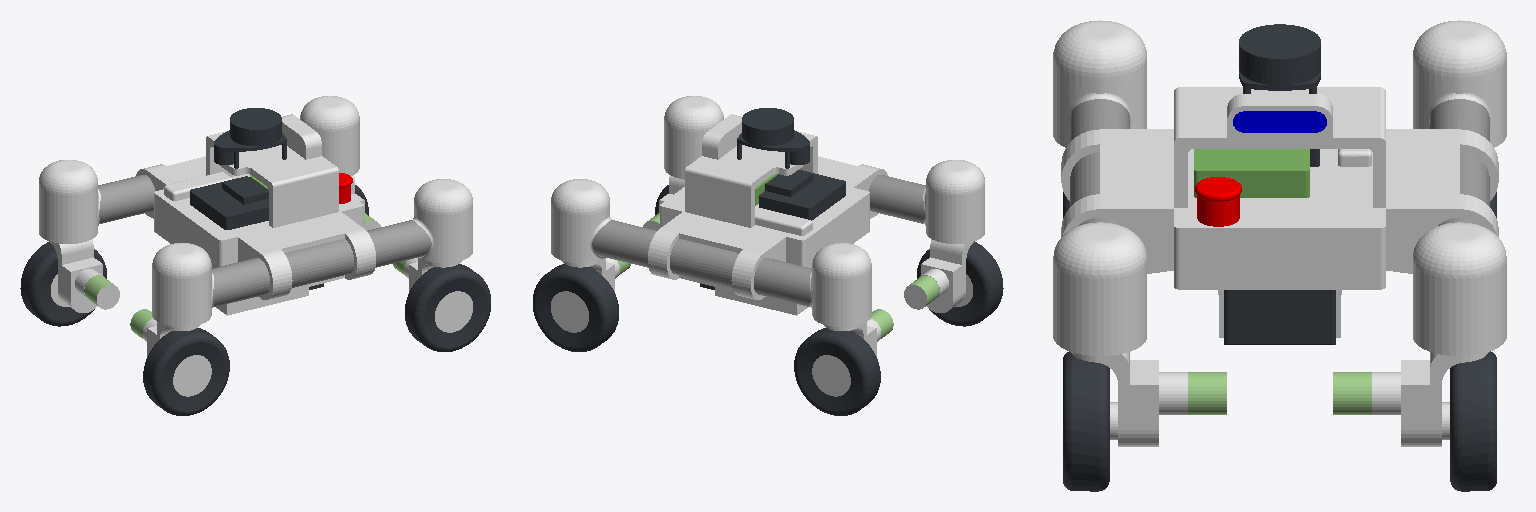
URDF robot description (robot):
<?xml version="1.0"?>
<robot name="robot">

  <!-- Base chassis -->
  <link name="chassis">
    <!-- Visual mesh -->
    <visual>
      <geometry>
        <mesh filename="package://robot_description/urdf/meshes/chassis.dae" scale="1 1 1"/>
      </geometry>
    </visual>

    <!-- Simplified collision -->
    <collision>
      <geometry>
        <box size="0.6 0.5 0.35"/> <!-- example box covering chassis -->
      </geometry>
      <origin xyz="0 0 0.175" rpy="0 0 0"/>
    </collision>
  </link>

  <!-- LiDAR sensor mounted at the chassis center, z = 0.310 m -->
  <link name="lidar_link"/>
  <joint name="chassis_to_lidar" type="fixed">
    <parent link="chassis"/>
    <child link="lidar_link"/>
    <origin xyz="0 0 0.31" rpy="0 0 0"/>
  </joint>

  <!-- RealSense camera at x=+0.088 m forward, z=0.28 m, centered laterally -->
  <link name="camera_link"/>
  <joint name="chassis_to_camera" type="fixed">
    <parent link="chassis"/>
    <child link="camera_link"/>
    <origin xyz="0.088 0 0.28" rpy="0 0 0"/>
  </joint>

  <!-- IMU dead center at z=0.266 m -->
  <link name="imu_link"/>
  <joint name="chassis_to_imu" type="fixed">
    <parent link="chassis"/>
    <child link="imu_link"/>
    <origin xyz="0 0 0.266" rpy="0 0 0"/>
  </joint>

  <!-- === Wheel Pods === -->
  <!-- Front Left -->
  <link name="front_left_pod">
    <visual>
      <geometry>
        <mesh filename="package://robot_description/urdf/meshes/wheelpod.dae" scale="1 1 1"/>
      </geometry>
    </visual>
  </link>
  <joint name="chassis_to_front_left_pod" type="revolute">
    <parent link="chassis"/>
    <child link="front_left_pod"/>
    <origin xyz="0.2025 0.152345 0.1395" rpy="0 0 3.14159"/>
    <axis xyz="0 0 1"/>
    <limit lower="-1.5708" upper="1.5708" effort="10" velocity="1"/>
  </joint>

  <!-- Front Right -->
  <link name="front_right_pod">
    <visual>
      <geometry>
        <mesh filename="package://robot_description/urdf/meshes/wheelpod.dae" scale="1 1 1"/>
      </geometry>
    </visual>
  </link>
  <joint name="chassis_to_front_right_pod" type="revolute">
    <parent link="chassis"/>
    <child link="front_right_pod"/>
    <origin xyz="0.2025 -0.152346 0.1395" rpy="0 0 0"/>
    <axis xyz="0 0 1"/>
    <limit lower="-1.5708" upper="1.5708" effort="10" velocity="1"/>
  </joint>

  <!-- Back Left -->
  <link name="back_left_pod">
    <visual>
      <geometry>
        <mesh filename="package://robot_description/urdf/meshes/wheelpod.dae" scale="1 1 1"/>
      </geometry>
    </visual>
  </link>
  <joint name="chassis_to_back_left_pod" type="revolute">
    <parent link="chassis"/>
    <child link="back_left_pod"/>
    <origin xyz="-0.2025 0.152345 0.1395" rpy="0 0 3.14159"/>
    <axis xyz="0 0 1"/>
    <limit lower="-1.5708" upper="1.5708" effort="10" velocity="1"/>
  </joint>

  <!-- Back Right -->
  <link name="back_right_pod">
    <visual>
      <geometry>
        <mesh filename="package://robot_description/urdf/meshes/wheelpod.dae" scale="1 1 1"/>
      </geometry>
    </visual>
  </link>
  <joint name="chassis_to_back_right_pod" type="revolute">
    <parent link="chassis"/>
    <child link="back_right_pod"/>
    <origin xyz="-0.2025 -0.152346 0.1395" rpy="0 0 0"/>
    <axis xyz="0 0 1"/>
    <limit lower="-1.5708" upper="1.5708" effort="10" velocity="1"/>
  </joint>

  <!-- === Wheels === -->
  <!-- Front Left Wheel -->
  <link name="front_left_wheel">
    <visual>
      <geometry>
        <mesh filename="package://robot_description/urdf/meshes/wheel.dae" scale="1 1 1"/>
      </geometry>
    </visual>
  </link>
  <joint name="front_left_pod_to_wheel" type="fixed">
    <parent link="front_left_pod"/>
    <child link="front_left_wheel"/>
    <origin xyz="0 0.004 -0.07905" rpy="-1.5708 0 0"/>
    <axis xyz="0 0 1"/>
  </joint>

  <!-- Front Right Wheel -->
  <link name="front_right_wheel">
    <visual>
      <geometry>
        <mesh filename="package://robot_description/urdf/meshes/wheel.dae" scale="1 1 1"/>
      </geometry>
    </visual>
  </link>
  <joint name="front_right_pod_to_wheel" type="fixed">
    <parent link="front_right_pod"/>
    <child link="front_right_wheel"/>
    <origin xyz="0 0.004 -0.07905" rpy="-1.5708 0 0"/>
    <axis xyz="0 0 1"/>
  </joint>

  <!-- Back Left Wheel -->
  <link name="back_left_wheel">
    <visual>
      <geometry>
        <mesh filename="package://robot_description/urdf/meshes/wheel.dae" scale="1 1 1"/>
      </geometry>
    </visual>
  </link>
  <joint name="back_left_pod_to_wheel" type="fixed">
    <parent link="back_left_pod"/>
    <child link="back_left_wheel"/>
    <origin xyz="0 0.004 -0.07905" rpy="-1.5708 0 0"/>
    <axis xyz="0 0 1"/>
  </joint>

  <!-- Back Right Wheel -->
  <link name="back_right_wheel">
    <visual>
      <geometry>
        <mesh filename="package://robot_description/urdf/meshes/wheel.dae" scale="1 1 1"/>
      </geometry>
    </visual>
  </link>
  <joint name="back_right_pod_to_wheel" type="fixed">
    <parent link="back_right_pod"/>
    <child link="back_right_wheel"/>
    <origin xyz="0 0.004 -0.07905" rpy="-1.5708 0 0"/>
    <axis xyz="0 0 1"/>
  </joint>

</robot>

--- What the picture shows (computed from the rendered views, not written in the file) ---
Views: 3 orthographic renders of the robot side by side, from view 1: azimuth 30°, elevation 25°; view 2: azimuth 150°, elevation 25°; view 3: azimuth 270°, elevation 25°.
Robot: robot — 12 links, 11 joints (4 revolute, 7 fixed); root link chassis; default pose: all joints at 0.
Visible links, largest first — view 1: chassis, back_right_wheel, front_right_wheel, back_left_pod, back_left_wheel, back_right_pod, front_right_pod; view 2: chassis, back_left_wheel, front_left_wheel, back_right_pod, back_right_wheel, back_left_pod, front_left_pod; view 3: chassis, front_left_pod, front_right_pod, front_left_wheel, front_right_wheel.
Link boxes in pixels (x1,y1,x2,y2): chassis: (39, 96, 472, 326); back_right_wheel: (143, 328, 229, 415); front_right_wheel: (405, 264, 490, 351); back_left_pod: (50, 239, 119, 312); back_left_wheel: (20, 241, 106, 326); back_right_pod: (130, 309, 199, 356); front_right_pod: (393, 258, 461, 291); chassis: (551, 96, 984, 326); back_left_wheel: (794, 328, 880, 415); front_left_wheel: (533, 264, 618, 351); back_right_pod: (904, 239, 973, 312); back_right_wheel: (917, 241, 1003, 326); back_left_pod: (824, 309, 893, 356); front_left_pod: (562, 258, 630, 291); chassis: (1053, 20, 1506, 355); front_left_pod: (1333, 352, 1488, 446); front_right_pod: (1071, 352, 1226, 446); front_left_wheel: (1450, 351, 1496, 491); front_right_wheel: (1063, 351, 1109, 491).
Bounding box of the posed robot: 0.5249 × 0.3845 × 0.3201 m (x, y, z).
Meshes: 3 distinct files referenced, 9 mesh visuals loaded (3 Collada DAE).
